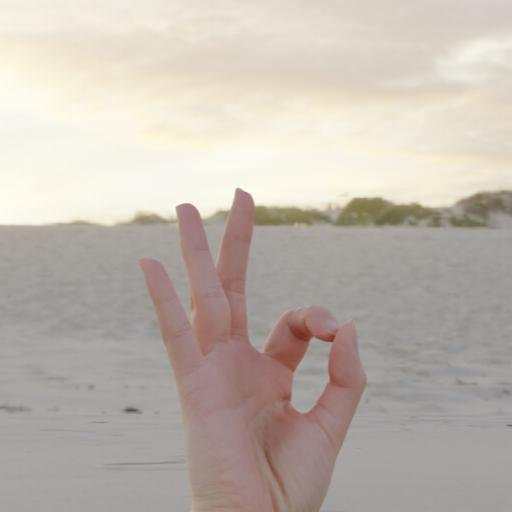F: (124, 168, 380, 512)
